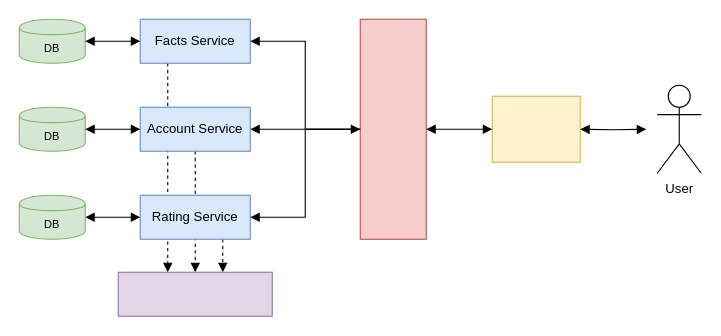
The diagram is 721 pixels wide and 336 high, and some of its shapes have lost their labels. The centre of each missing label's shape, as x and y in pixels:
API Gateway: point 392,128
Client Application: point 535,128
Message Broker: point 194,293
